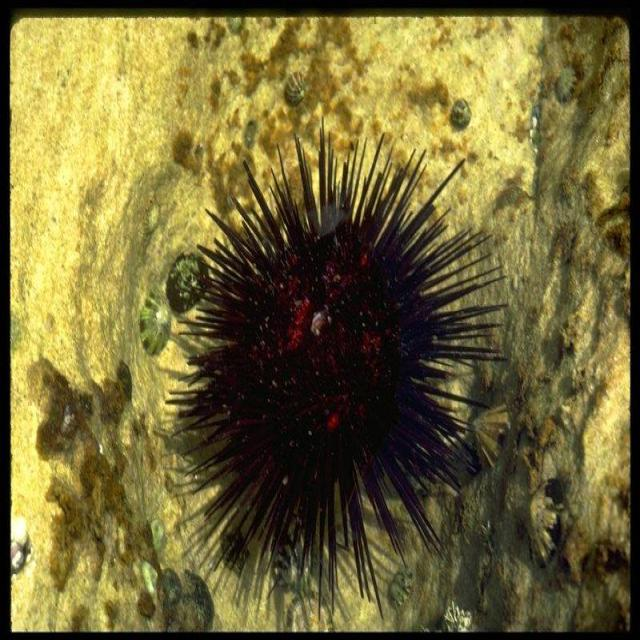Urchin: (157, 121, 506, 615)
